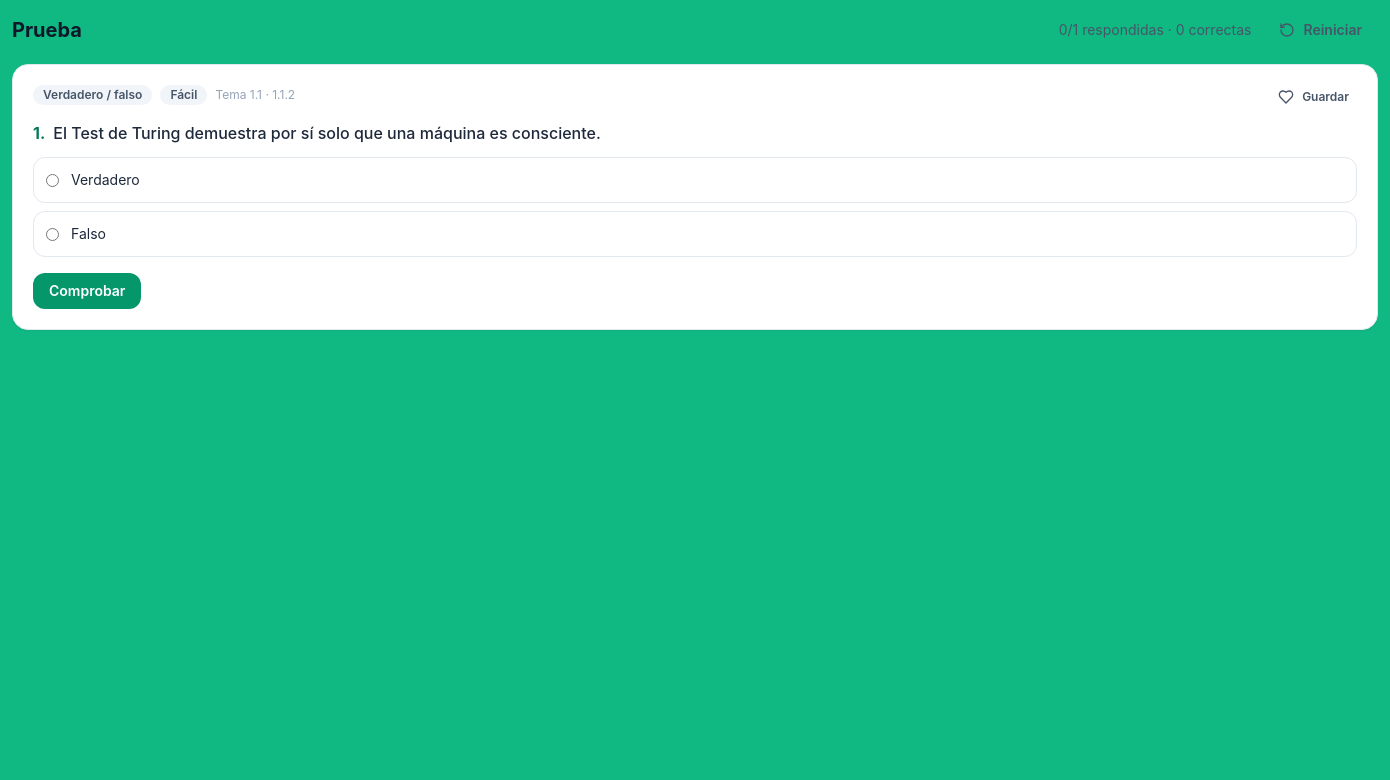
Test case: QuizSet › marca incorrecto y muestra la respuesta correcta (verdadero/falso)
The image size is (1390, 780).
What coordinates should you click on to do the following:
click the radio button labelled "Verdadero"
I would click on:
 (52, 180)
Its box is [46,174,59,186].
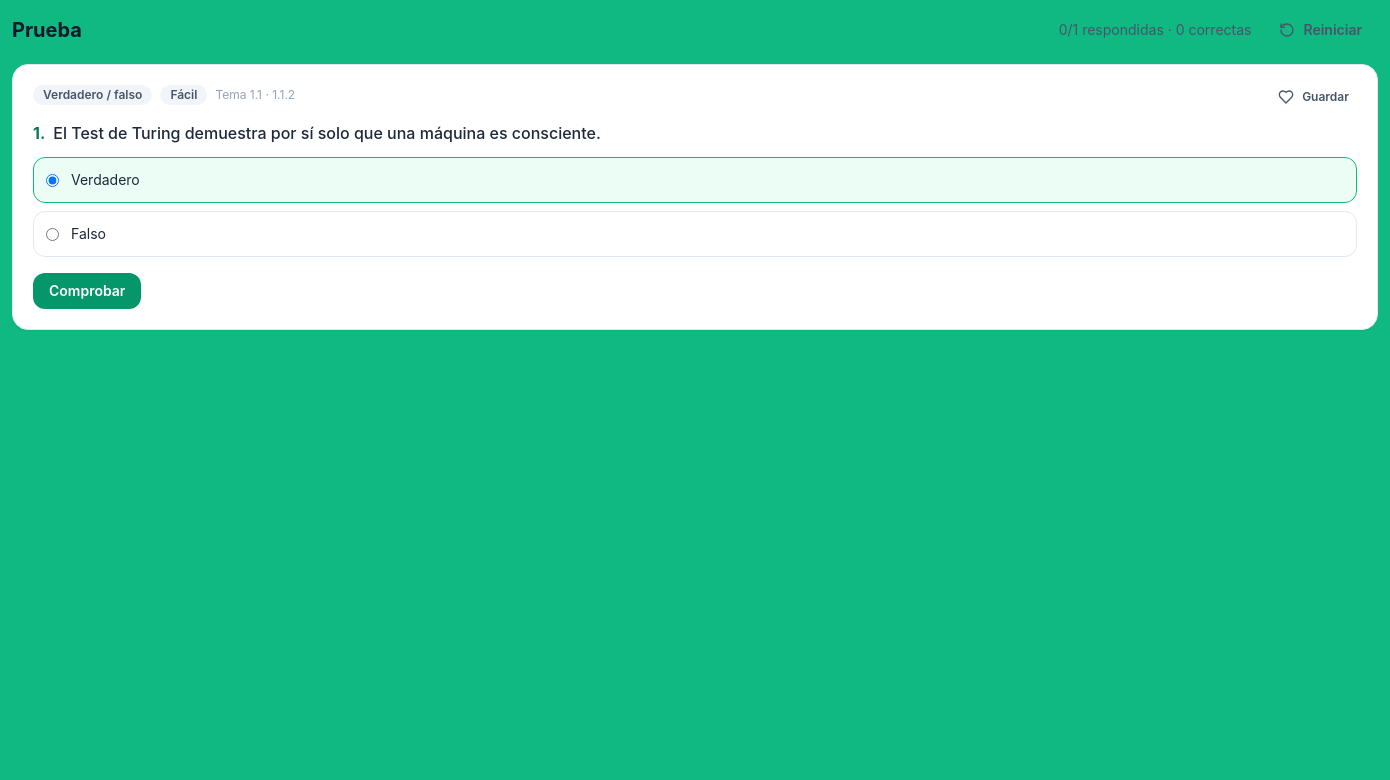
What coordinates should you click on to do the following:
click the button "Comprobar"
I would click on:
 (87, 291)
Its box is [33,273,141,309].
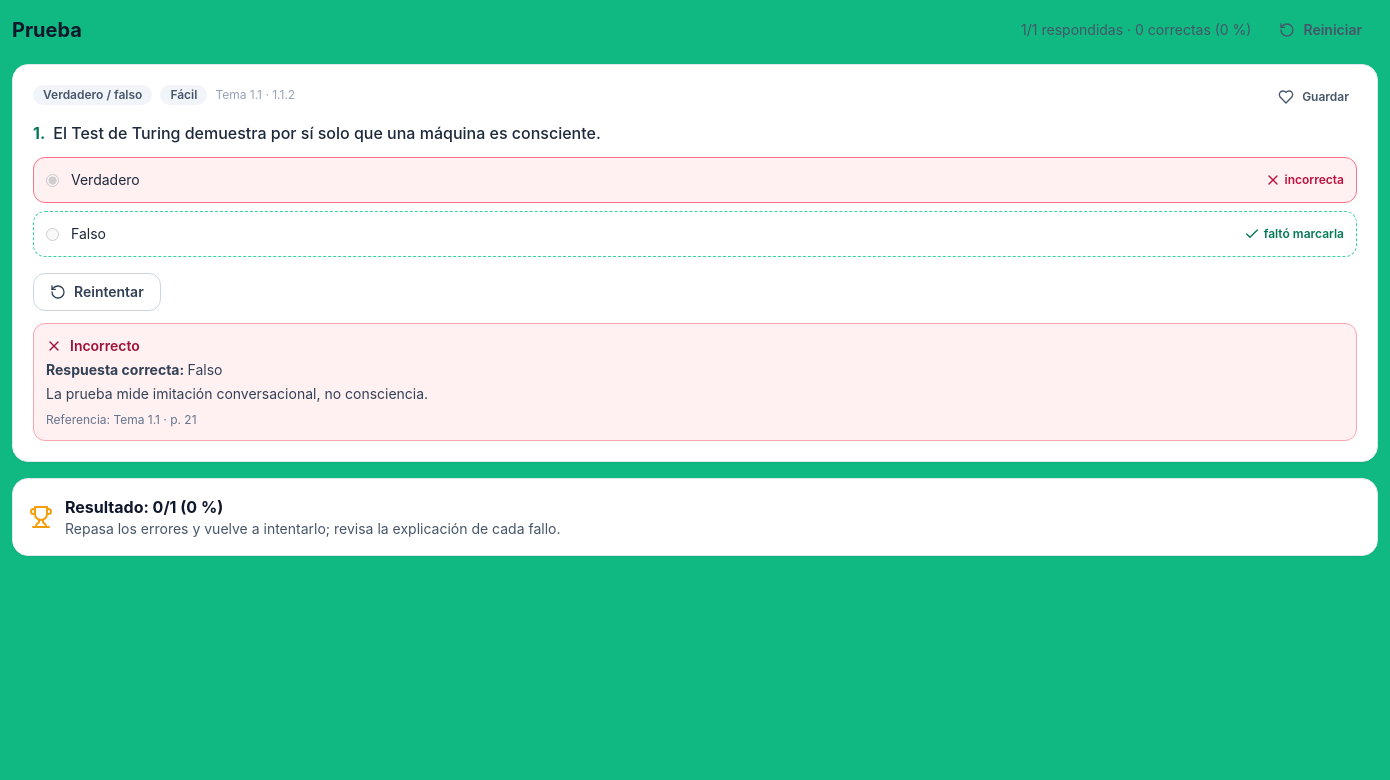
Check: the text "Incorrecto" is shown, box [46,337,140,354]
Check: the text "Respuesta correcta:" is shown, box [46,361,188,378]
Check: the text "La prueba mide imitación conversacional, no consciencia." is shown, box [46,385,428,402]
